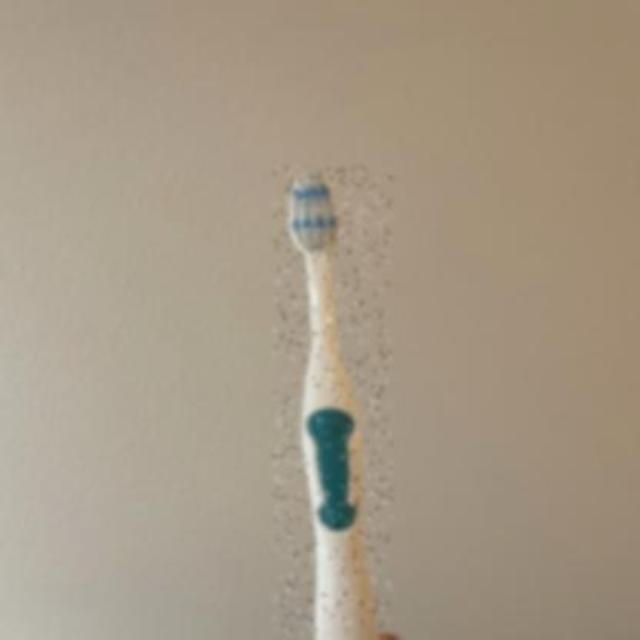toothbrush: (274, 165, 392, 640)
